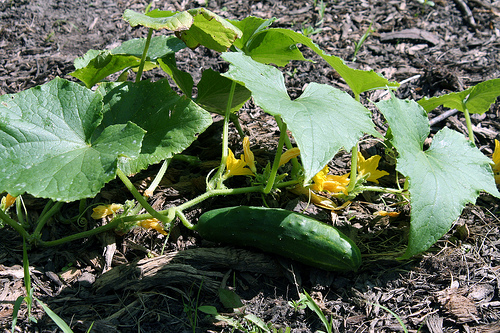cucumber: (195, 205, 361, 276)
